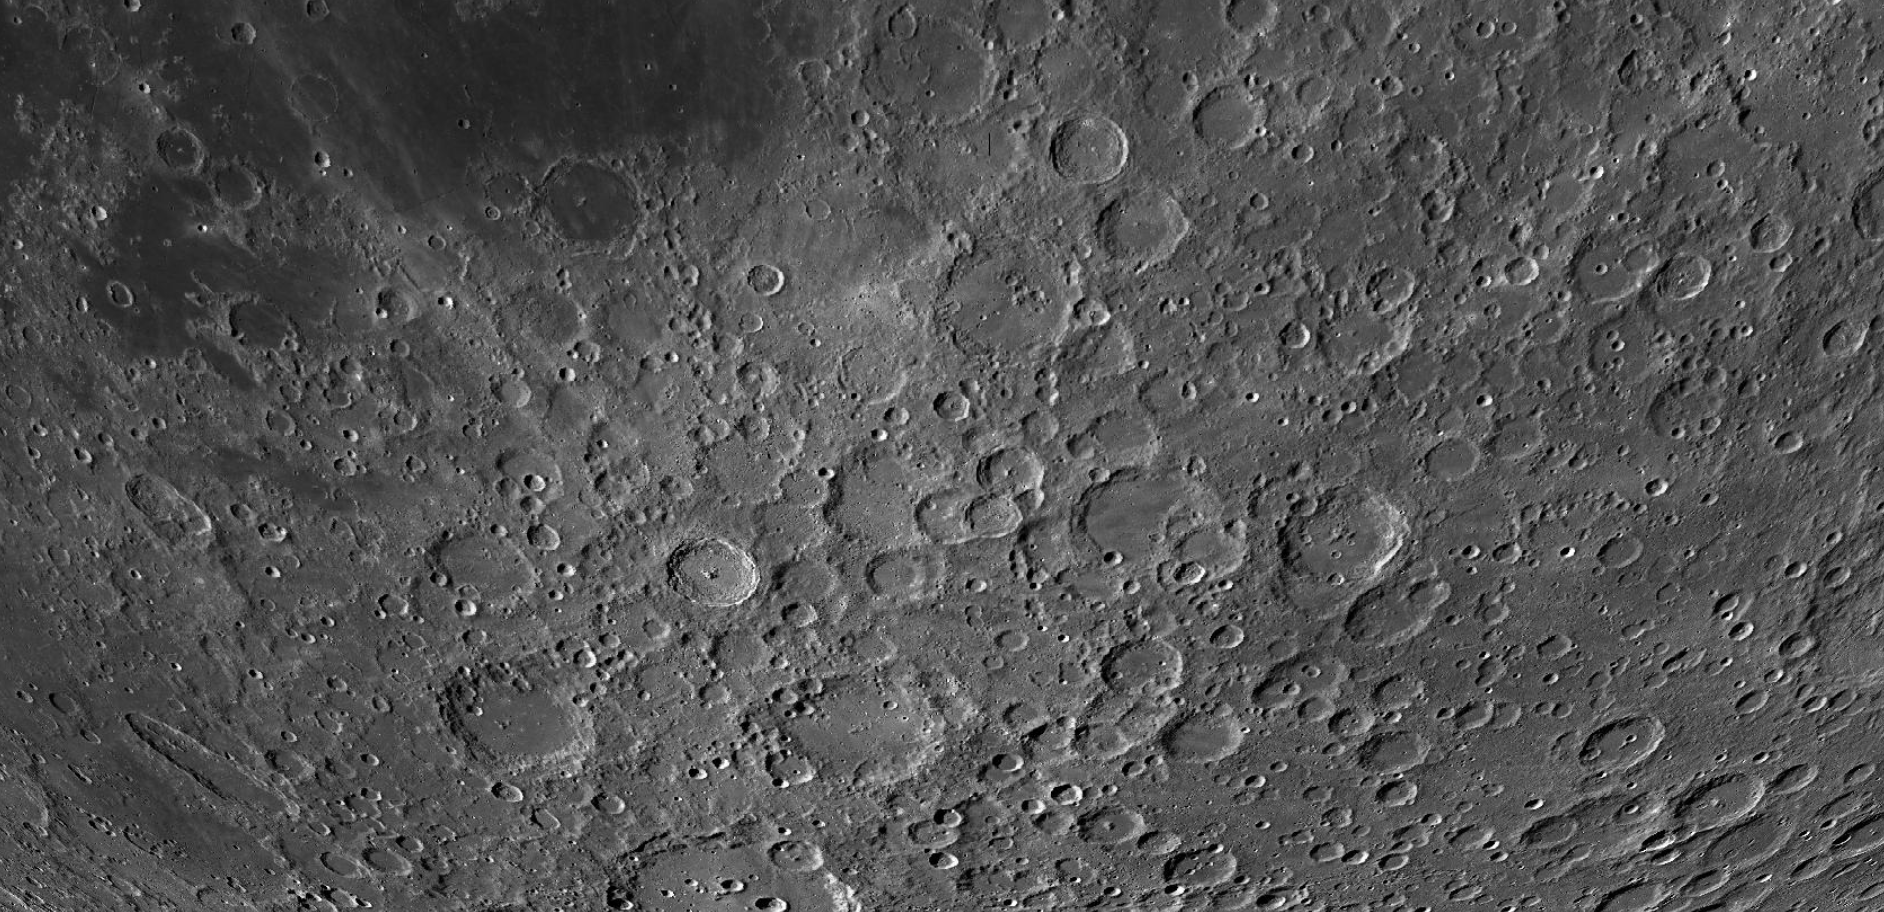crater: (99, 687, 324, 844), (729, 666, 955, 799), (842, 1, 1020, 148), (419, 648, 609, 785), (1264, 466, 1411, 604), (525, 125, 652, 269), (117, 461, 227, 570), (632, 532, 769, 616), (1035, 85, 1131, 195), (1180, 55, 1266, 173), (1567, 709, 1683, 783), (266, 56, 375, 136), (734, 244, 813, 310), (1587, 521, 1655, 585), (1512, 811, 1598, 856), (208, 8, 273, 62), (93, 266, 150, 326)
